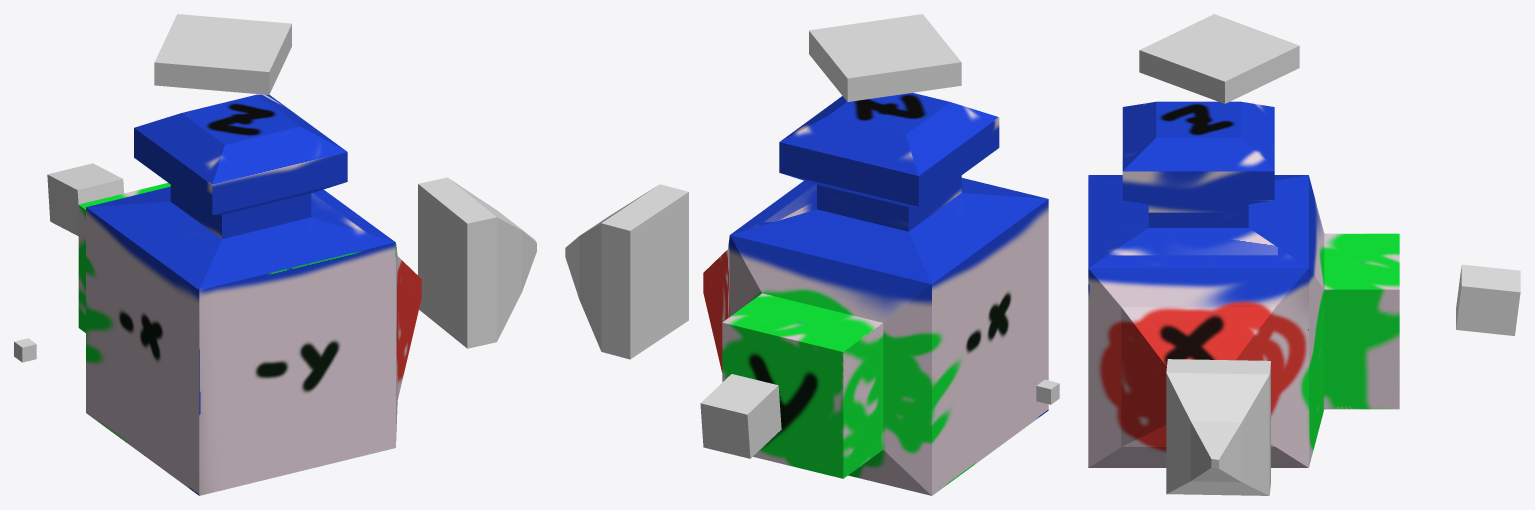
The model's file is axes_test.glb.
The picture shows the model from 3 angles, left to right: view 1: azimuth 30°, elevation 25°; view 2: azimuth 150°, elevation 25°; view 3: azimuth 270°, elevation 25°; orthographic projection. The views are drawn at different scales.
Visible parts, largest first — view 1: Cube_xyz_shape, Cube_x_over, Cube_z_child, Cube_y_over; view 2: Cube_xyz_shape, Cube_x_over, Cube_z_child, Cube_y_over; view 3: Cube_xyz_shape, Cube_x_over, Cube_z_child, Cube_y_over.
Boxes of the visible parts, x1=… form: Cube_xyz_shape: x1=78, y1=94, x2=421, y2=495; Cube_x_over: x1=418, y1=177, x2=536, y2=348; Cube_z_child: x1=154, y1=14, x2=291, y2=94; Cube_y_over: x1=47, y1=163, x2=124, y2=236; Cube_xyz_shape: x1=703, y1=93, x2=1048, y2=495; Cube_x_over: x1=565, y1=184, x2=688, y2=359; Cube_z_child: x1=809, y1=14, x2=961, y2=101; Cube_y_over: x1=700, y1=374, x2=781, y2=458; Cube_xyz_shape: x1=1088, y1=101, x2=1399, y2=467; Cube_x_over: x1=1166, y1=359, x2=1270, y2=495; Cube_z_child: x1=1139, y1=14, x2=1299, y2=103; Cube_y_over: x1=1456, y1=264, x2=1520, y2=335.
Bounding box in the file's own units: 5.05 × 3.71 × 3.92.
1 material, 1 textured.
